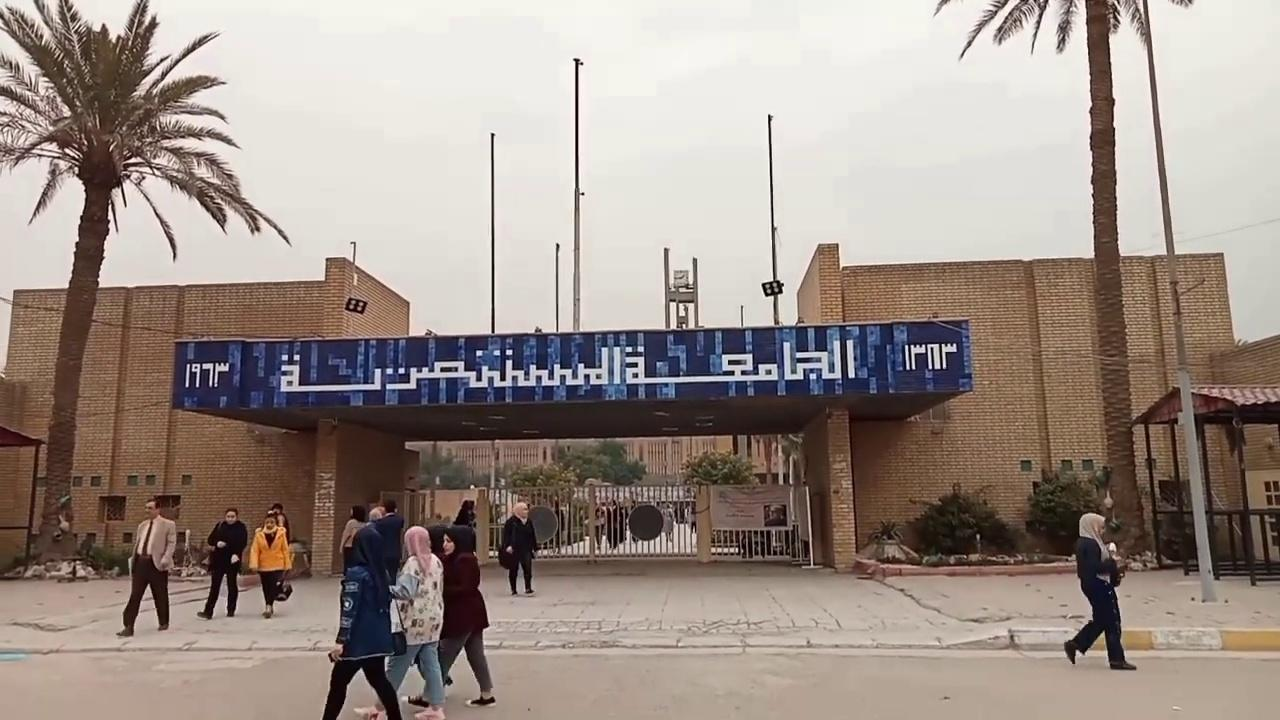person: (353, 525, 447, 719), (320, 514, 403, 719), (408, 523, 496, 710), (1063, 511, 1137, 670), (115, 499, 177, 637), (196, 507, 247, 619), (248, 512, 292, 618), (501, 501, 538, 595), (339, 504, 367, 577), (453, 499, 475, 526)
tree: (0, 0, 291, 567), (931, 0, 1193, 559), (906, 480, 1010, 557), (1025, 463, 1111, 555), (678, 447, 760, 542), (505, 460, 579, 545), (678, 447, 759, 487)
